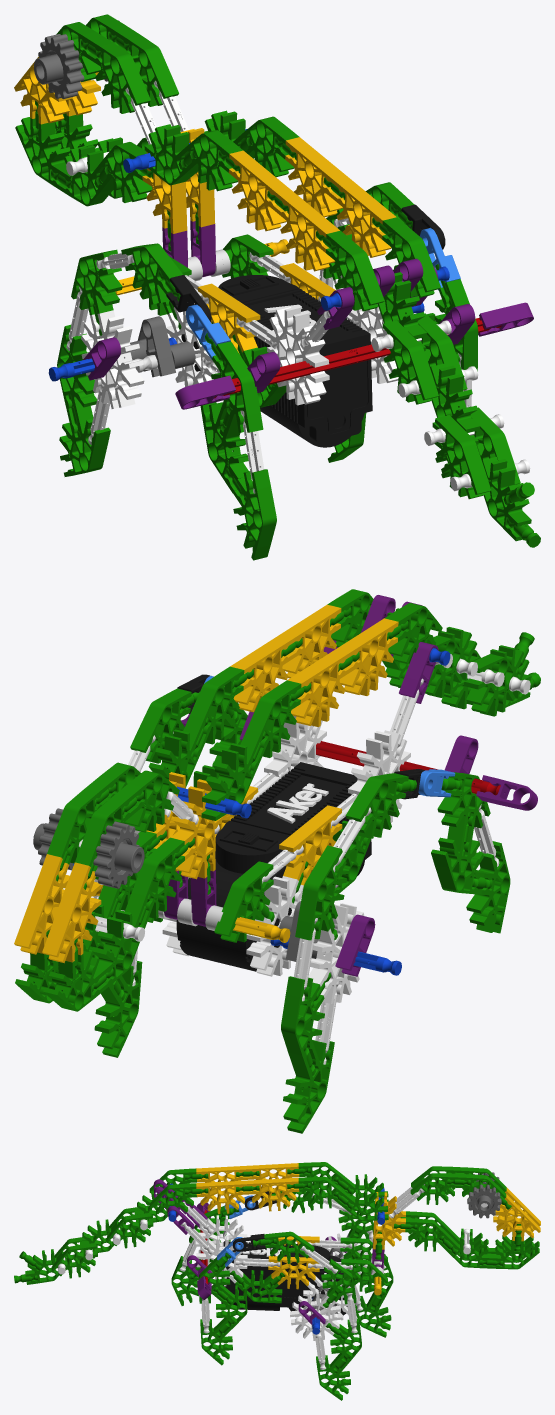
The picture shows the model from 3 angles, top to bottom: view 1: azimuth 30°, elevation 25°; view 2: azimuth 150°, elevation 25°; view 3: azimuth 270°, elevation 25°; orthographic projection. The views are drawn at different scales.
Parts seen in each view (by area): view 1: S3_L16.003, S3_L16.004, S3_L16.001, S3_L16.002, S3_L16.005, S3_L16.008, S3_L16.012, S3_L16, S3_L16.006, S3_L16.007; view 2: S3_L16.003, S3_L16.004, S3_L16.001, S3_L16.002, S3_L16.005, S3_L16.008, S3_L16.006, S3_L16, S3_L16.012, S3_L16.007; view 3: S3_L16.003, S3_L16.001, S3_L16.004, S3_L16.002, S3_L16.005, S3_L16.008, S3_L16.012, S3_L16.006.
Part boxes in pixels (x1,y1,x2,y2): S3_L16.003: (15, 14, 540, 560); S3_L16.004: (14, 56, 396, 353); S3_L16.001: (66, 80, 530, 493); S3_L16.002: (166, 204, 445, 447); S3_L16.005: (83, 220, 533, 409); S3_L16.008: (34, 20, 195, 377); S3_L16.012: (186, 227, 460, 359); S3_L16: (214, 317, 501, 398); S3_L16.006: (48, 129, 449, 381); S3_L16.007: (188, 249, 230, 280); S3_L16.003: (15, 589, 540, 1133); S3_L16.004: (14, 604, 398, 963); S3_L16.001: (79, 654, 530, 1064); S3_L16.002: (176, 674, 424, 971); S3_L16.005: (164, 595, 537, 976); S3_L16.008: (33, 808, 317, 961); S3_L16.006: (71, 648, 450, 975); S3_L16: (316, 741, 500, 795); S3_L16.012: (204, 675, 455, 797); S3_L16.007: (158, 898, 223, 930); S3_L16.003: (14, 1162, 539, 1400); S3_L16.001: (58, 1184, 487, 1369); S3_L16.004: (196, 1163, 540, 1295); S3_L16.002: (221, 1188, 352, 1315); S3_L16.005: (153, 1179, 384, 1324); S3_L16.008: (309, 1172, 501, 1313); S3_L16.012: (217, 1195, 255, 1266); S3_L16.006: (168, 1183, 384, 1334).
Bounding box in the file's own units: 1.63 × 1.65 × 3.97.
